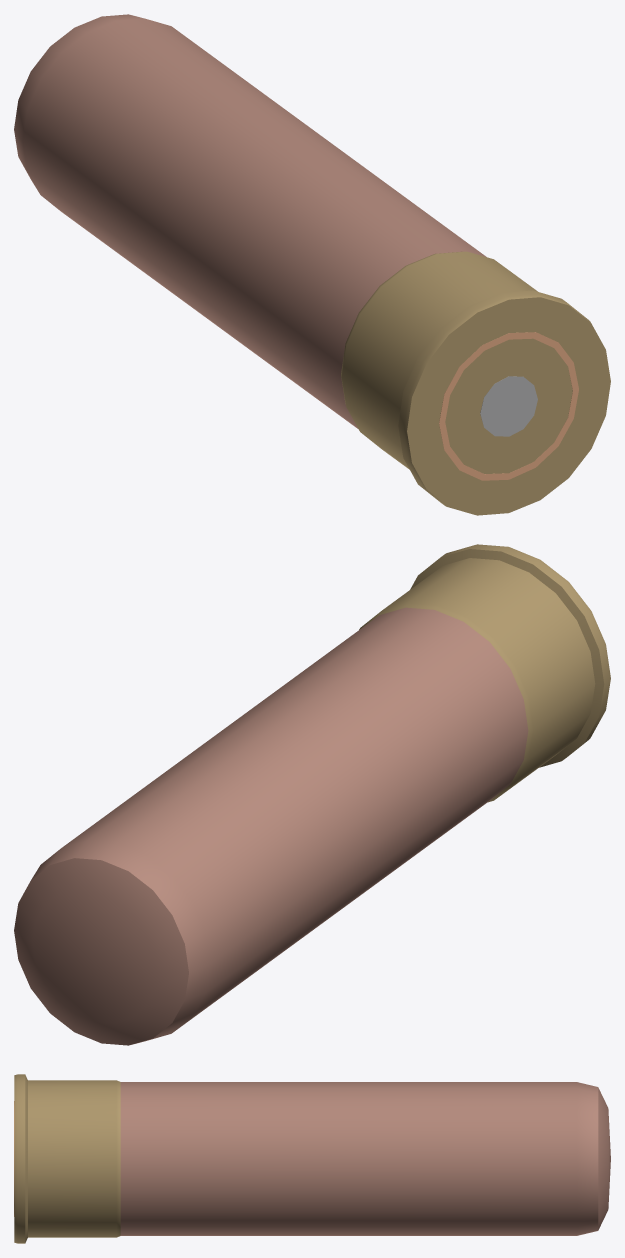
File: shell_12ga_repack.glb
The picture shows the model from 3 angles, top to bottom: view 1: azimuth 30°, elevation 25°; view 2: azimuth 150°, elevation 25°; view 3: azimuth 270°, elevation 25°; orthographic projection. The views are drawn at different scales.
Parts seen in each view (by area): view 1: body; view 2: body; view 3: body.
Boxes of the visible parts, box(x1,y1,x2,y2) form: body: box(14, 14, 610, 515); body: box(14, 544, 610, 1045); body: box(14, 1074, 610, 1243).
Bounding box in the file's own units: 0.02 × 0.02 × 0.07.
